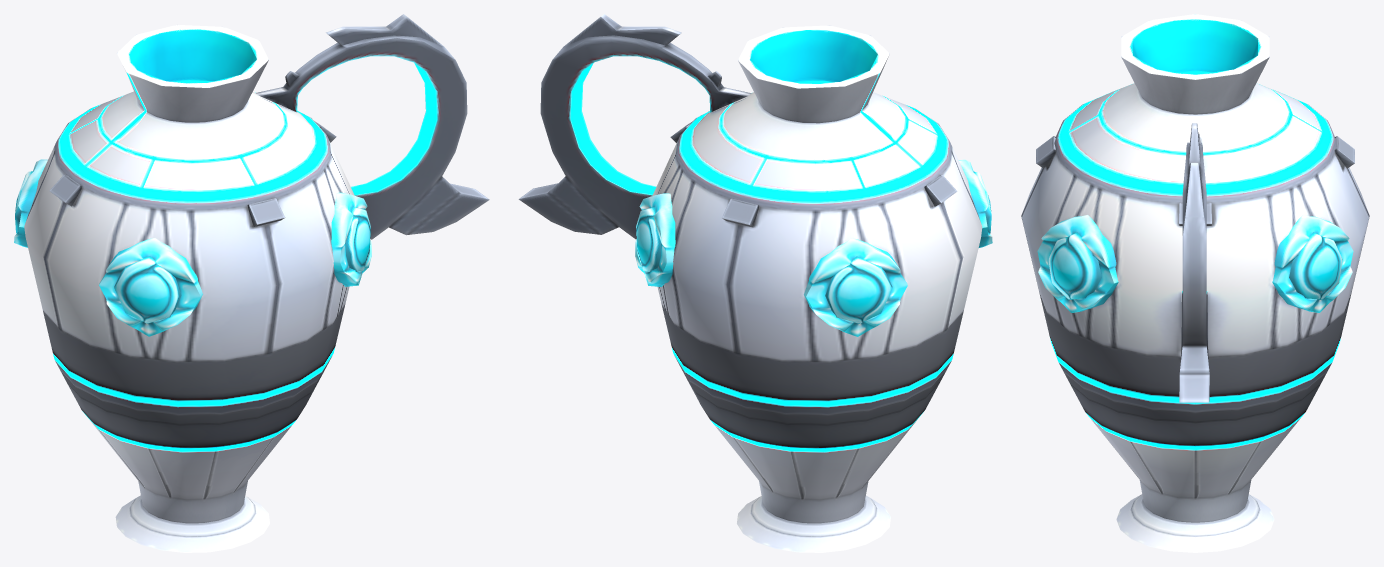
File: obj_vase.gltf
3 views of the same model, side by side, from view 1: azimuth 30°, elevation 25°; view 2: azimuth 150°, elevation 25°; view 3: azimuth 270°, elevation 25° (orthographic).
Visible parts, largest first — view 1: obj_vase; view 2: obj_vase; view 3: obj_vase.
Part boxes in pixels (x1,y1,x2,y2): obj_vase: (14, 14, 489, 552); obj_vase: (518, 14, 992, 552); obj_vase: (1021, 14, 1369, 552).
Size of what is drawn, in the model's own units: 1.38 by 1.4 by 0.9329.
1 material, 1 textured.
